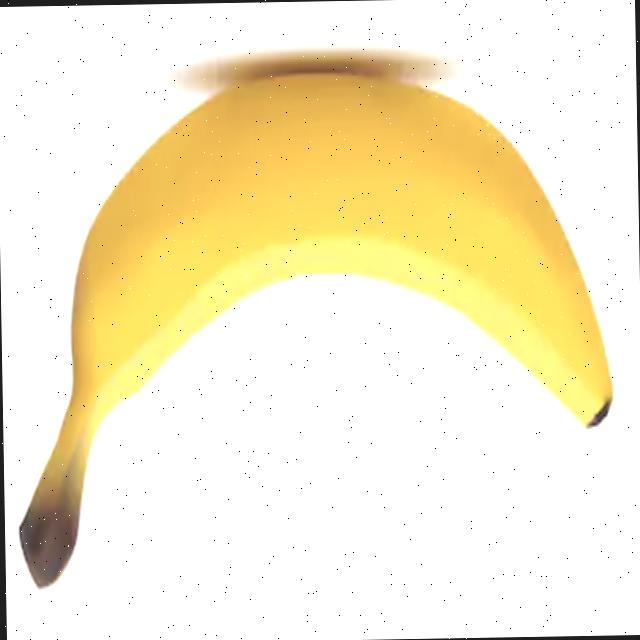Ripe: (7, 58, 618, 592)
